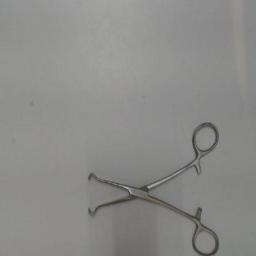Babcock Tissue Forceps: (80, 117, 224, 255)
